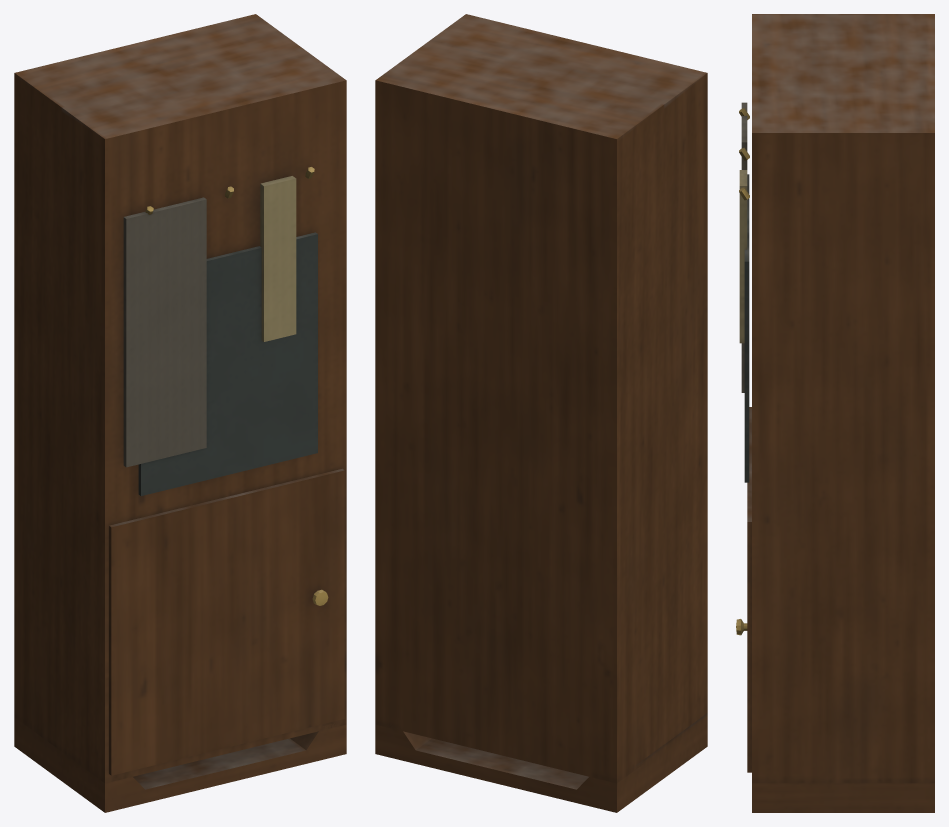
Rendered from H_TallCabinet_HallTree.fbx.
3 renders of one model, left to right at view 1: azimuth 30°, elevation 25°; view 2: azimuth 150°, elevation 25°; view 3: azimuth 270°, elevation 25°, orthographic.
Parts seen in each view (by area): view 1: H_TallCabinet_HallTree; view 2: H_TallCabinet_HallTree; view 3: H_TallCabinet_HallTree.
Part boxes in pixels (<box>): H_TallCabinet_HallTree: <box>14,14,346,812</box>; H_TallCabinet_HallTree: <box>375,14,707,812</box>; H_TallCabinet_HallTree: <box>736,14,934,812</box>.
Size of the model in its own units: 300 by 800 by 212.
Materials: 1 (1 with a texture image).
